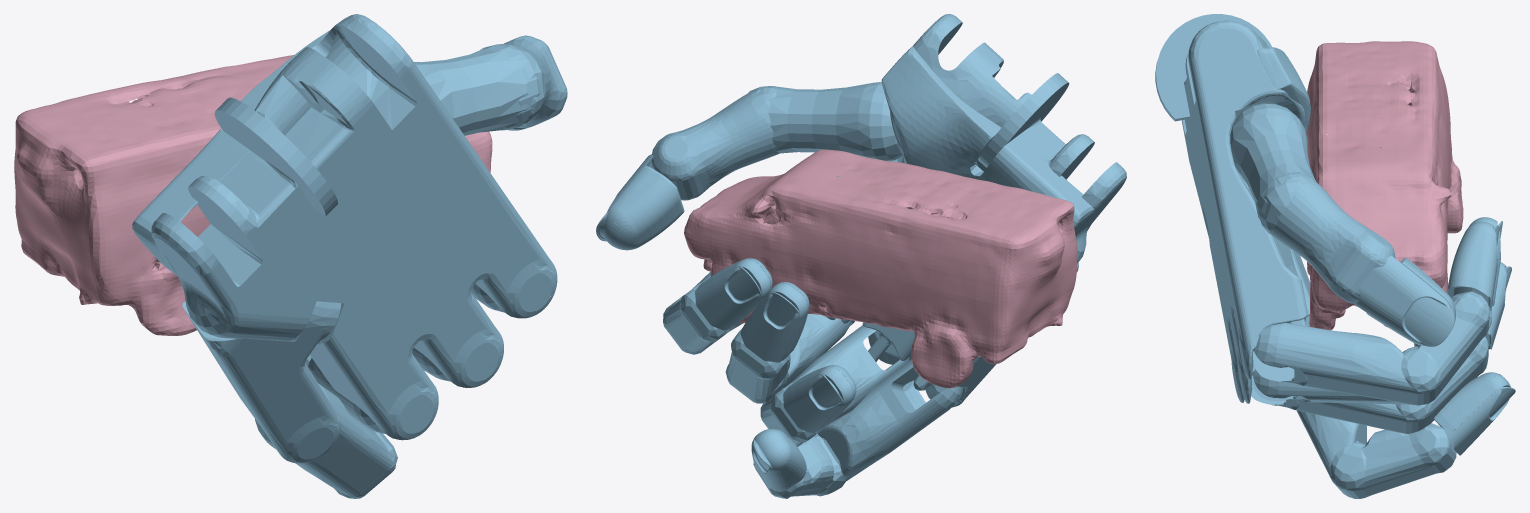
The picture shows the model from 3 angles, left to right: view 1: azimuth 30°, elevation 25°; view 2: azimuth 150°, elevation 25°; view 3: azimuth 270°, elevation 25°; orthographic projection. The views are drawn at different scales.
Visible parts, largest first — view 1: hand, world; view 2: hand, world; view 3: hand, world.
Boxes of the visible parts, x1,y1,x2,y2 form: hand: [132, 14, 567, 498]; world: [14, 55, 492, 335]; hand: [596, 14, 1126, 498]; world: [684, 149, 1077, 388]; hand: [1155, 14, 1515, 498]; world: [1306, 41, 1463, 330].
Size of the model in its own units: 0.1586 by 0.1557 by 0.1136.
